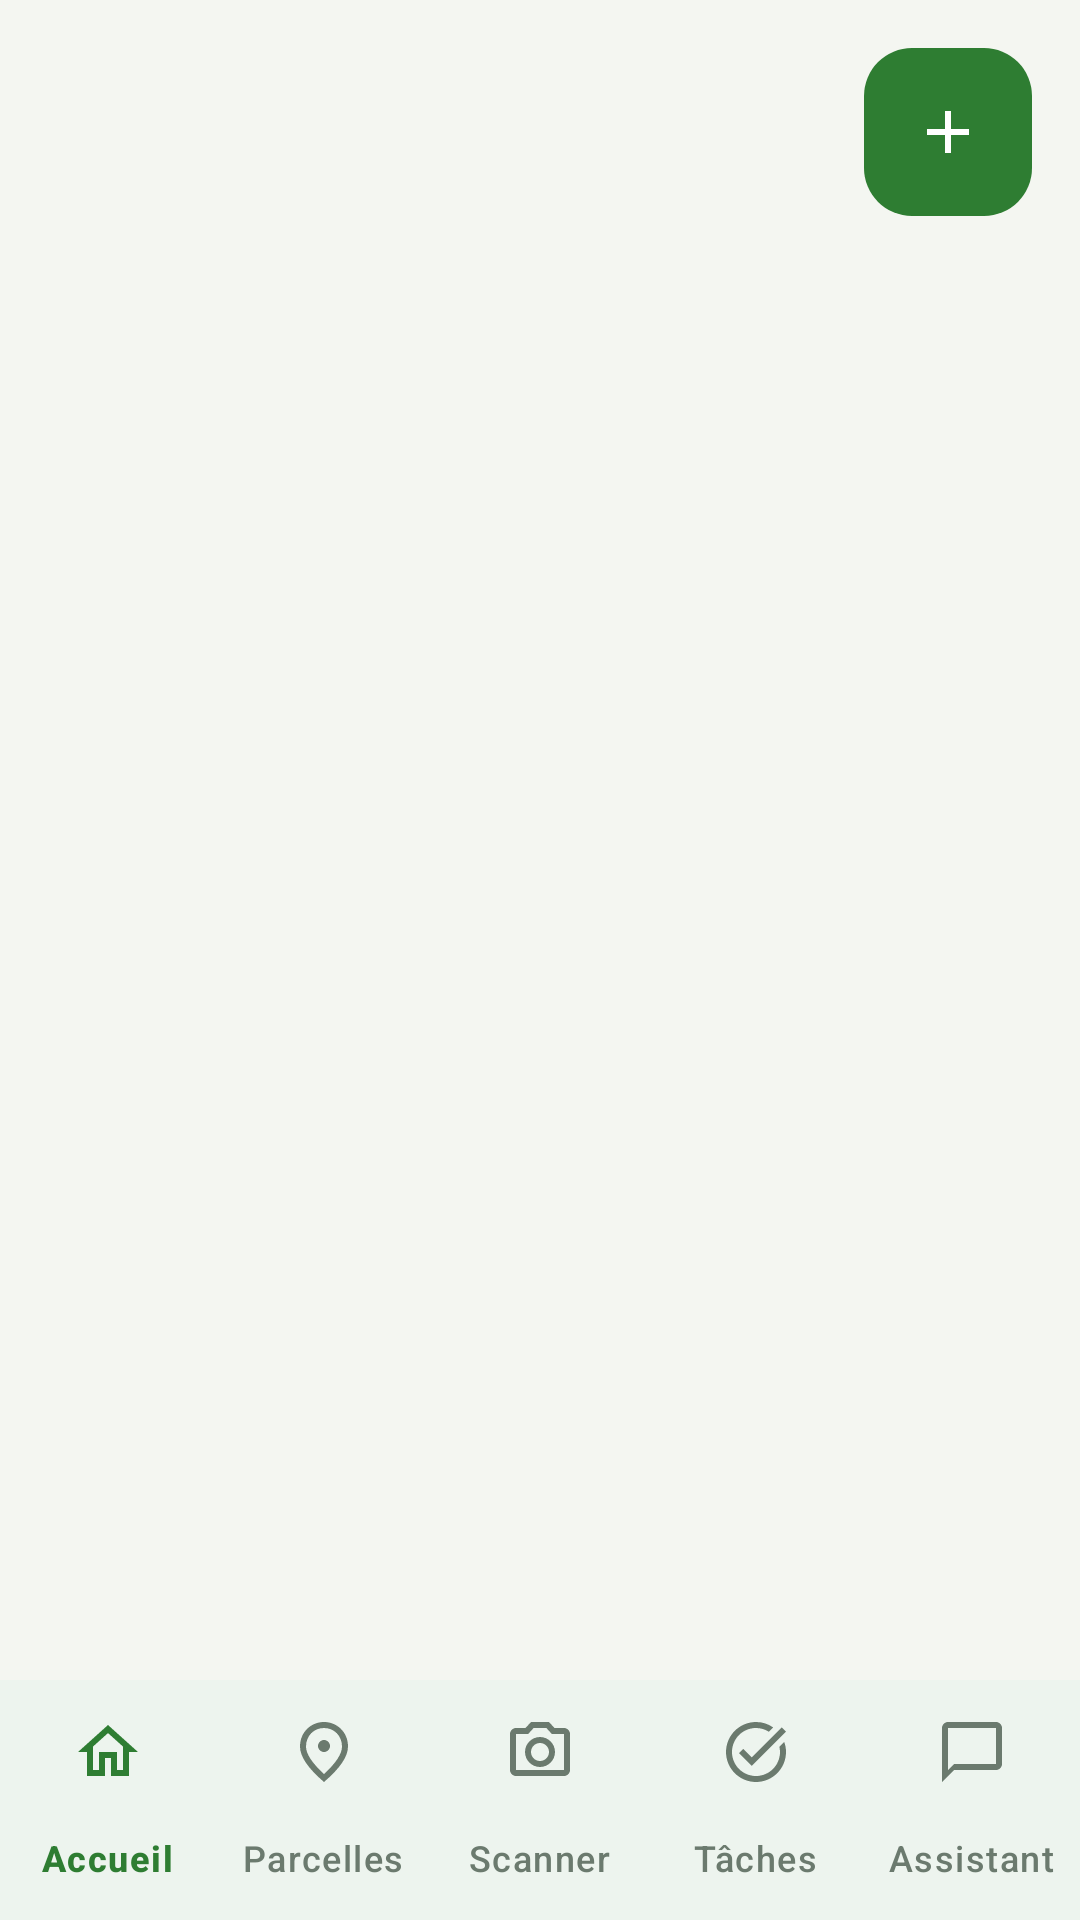

Screen size 1080×1920. Icon name, then its box in pixels as (x1, y1, x2, y2):
Nouvelle tâche: (864, 48, 1032, 216)
